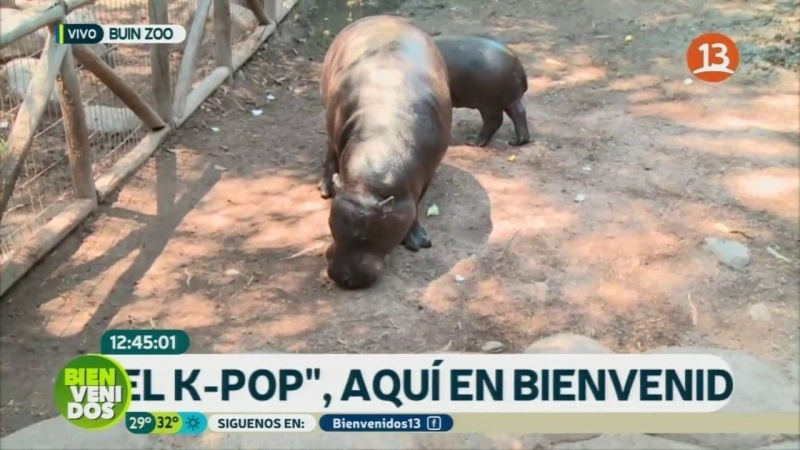hipopotamo: (295, 7, 446, 296), (423, 25, 551, 158)
